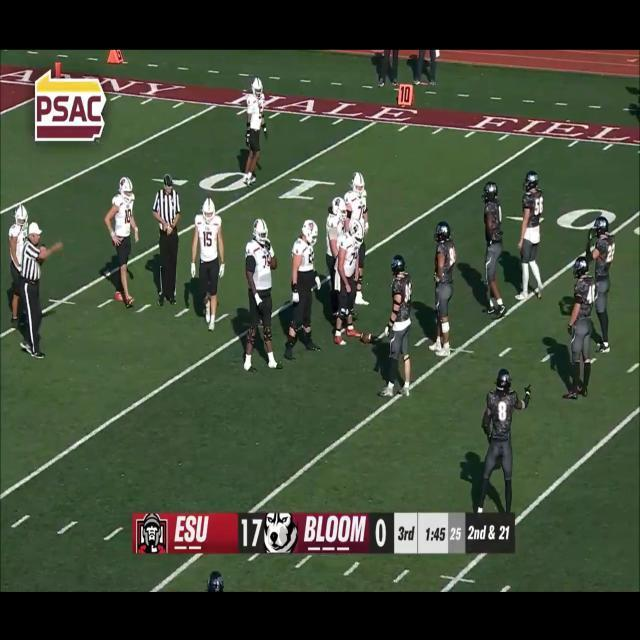football: (360, 332, 372, 344)
